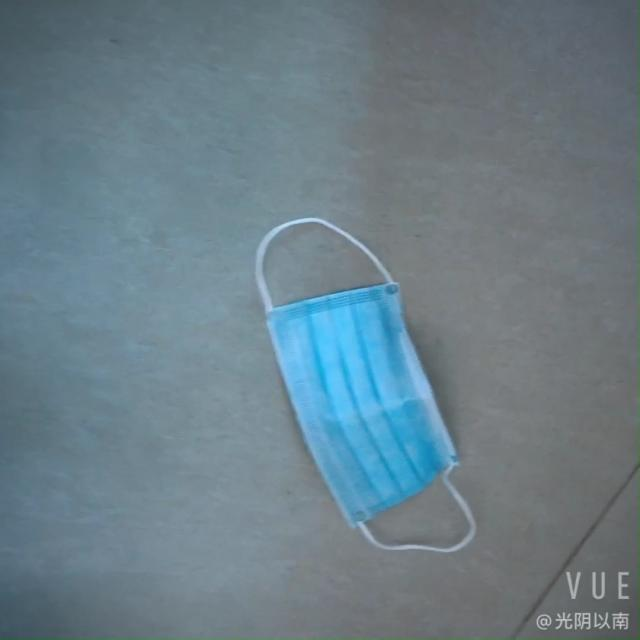non-organic waste: (264, 296, 468, 522)
